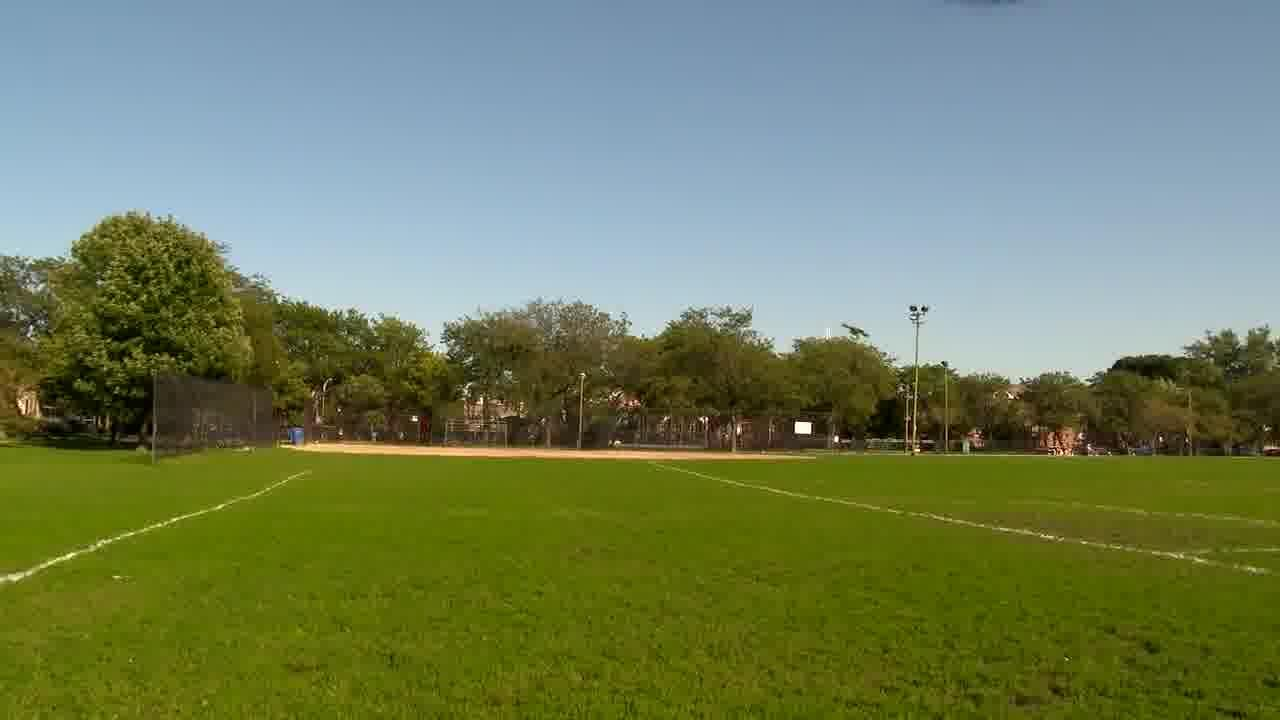drone: (832, 309, 881, 345)
